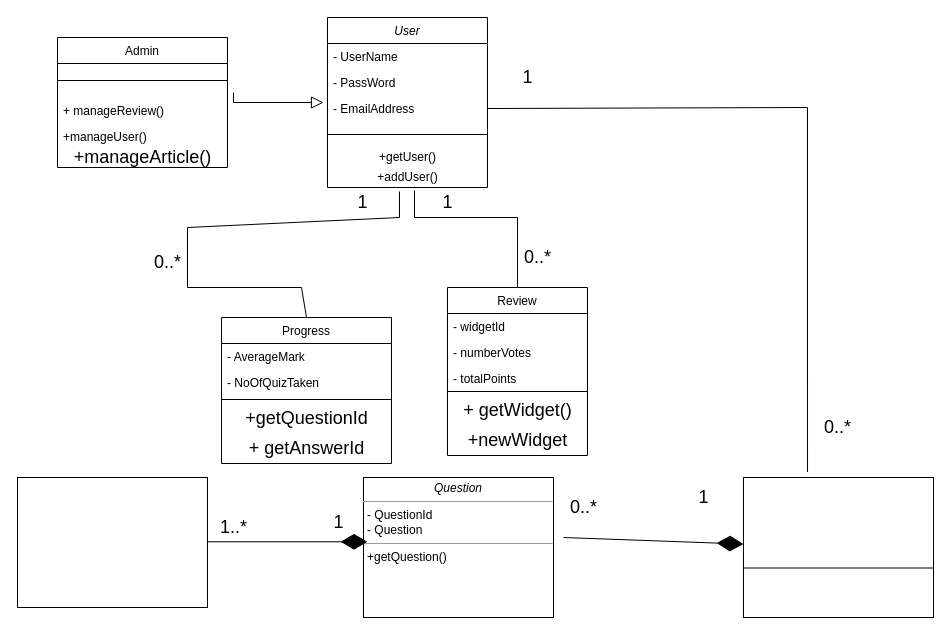
Some shapes in this 951 by 635 pixel diagram are drawn without their labels. The centre of each missing label's shape, as x and y in pixels:
"Answer - AnswerId - Answer - Flag + getAnswer()" belongs at pixel 112 542.
"Topic - TopicId - Title + getTopic()" belongs at pixel 838 547.
